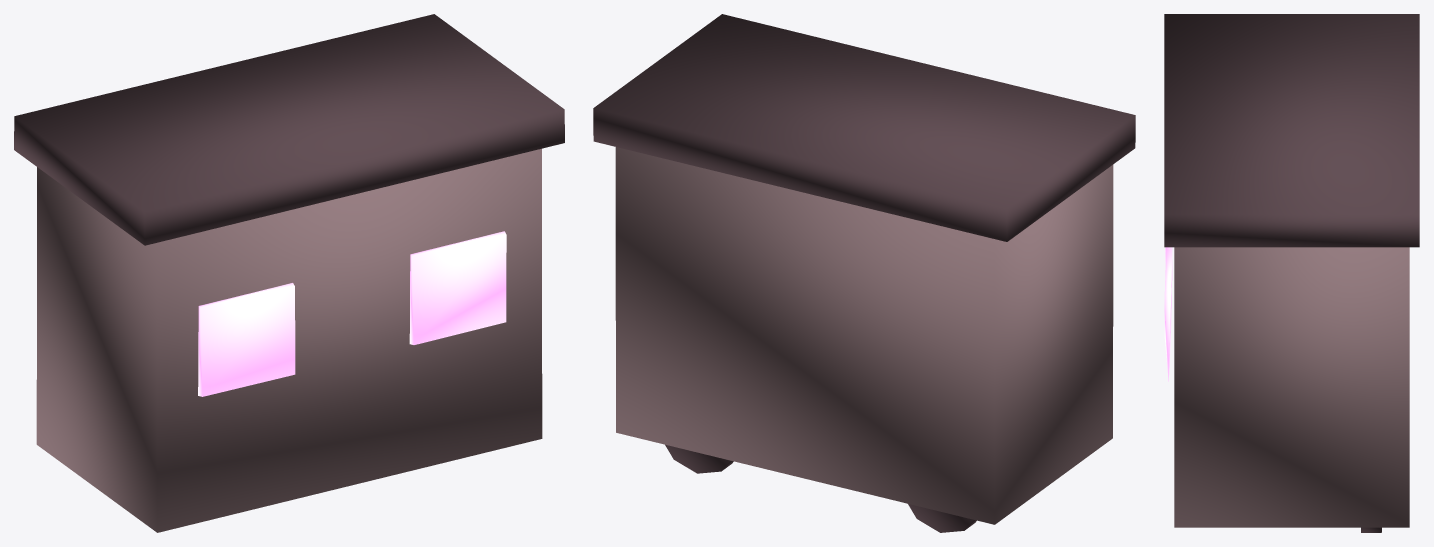
Rendered from SM_Neroberg_Funicular_LOD3.fbx.
The picture shows the model from 3 angles, left to right: view 1: azimuth 30°, elevation 25°; view 2: azimuth 150°, elevation 25°; view 3: azimuth 270°, elevation 25°; orthographic projection. The views are drawn at different scales.
Visible parts, largest first — view 1: SM_Neroberg_Funicular_LOD3; view 2: SM_Neroberg_Funicular_LOD3; view 3: SM_Neroberg_Funicular_LOD3.
Boxes of the visible parts, x1,y1,x2,y2 form: SM_Neroberg_Funicular_LOD3: [14, 14, 564, 532]; SM_Neroberg_Funicular_LOD3: [593, 14, 1135, 532]; SM_Neroberg_Funicular_LOD3: [1164, 14, 1419, 532].
Bounding box in the file's own units: 2.38 × 1.98 × 1.28.
